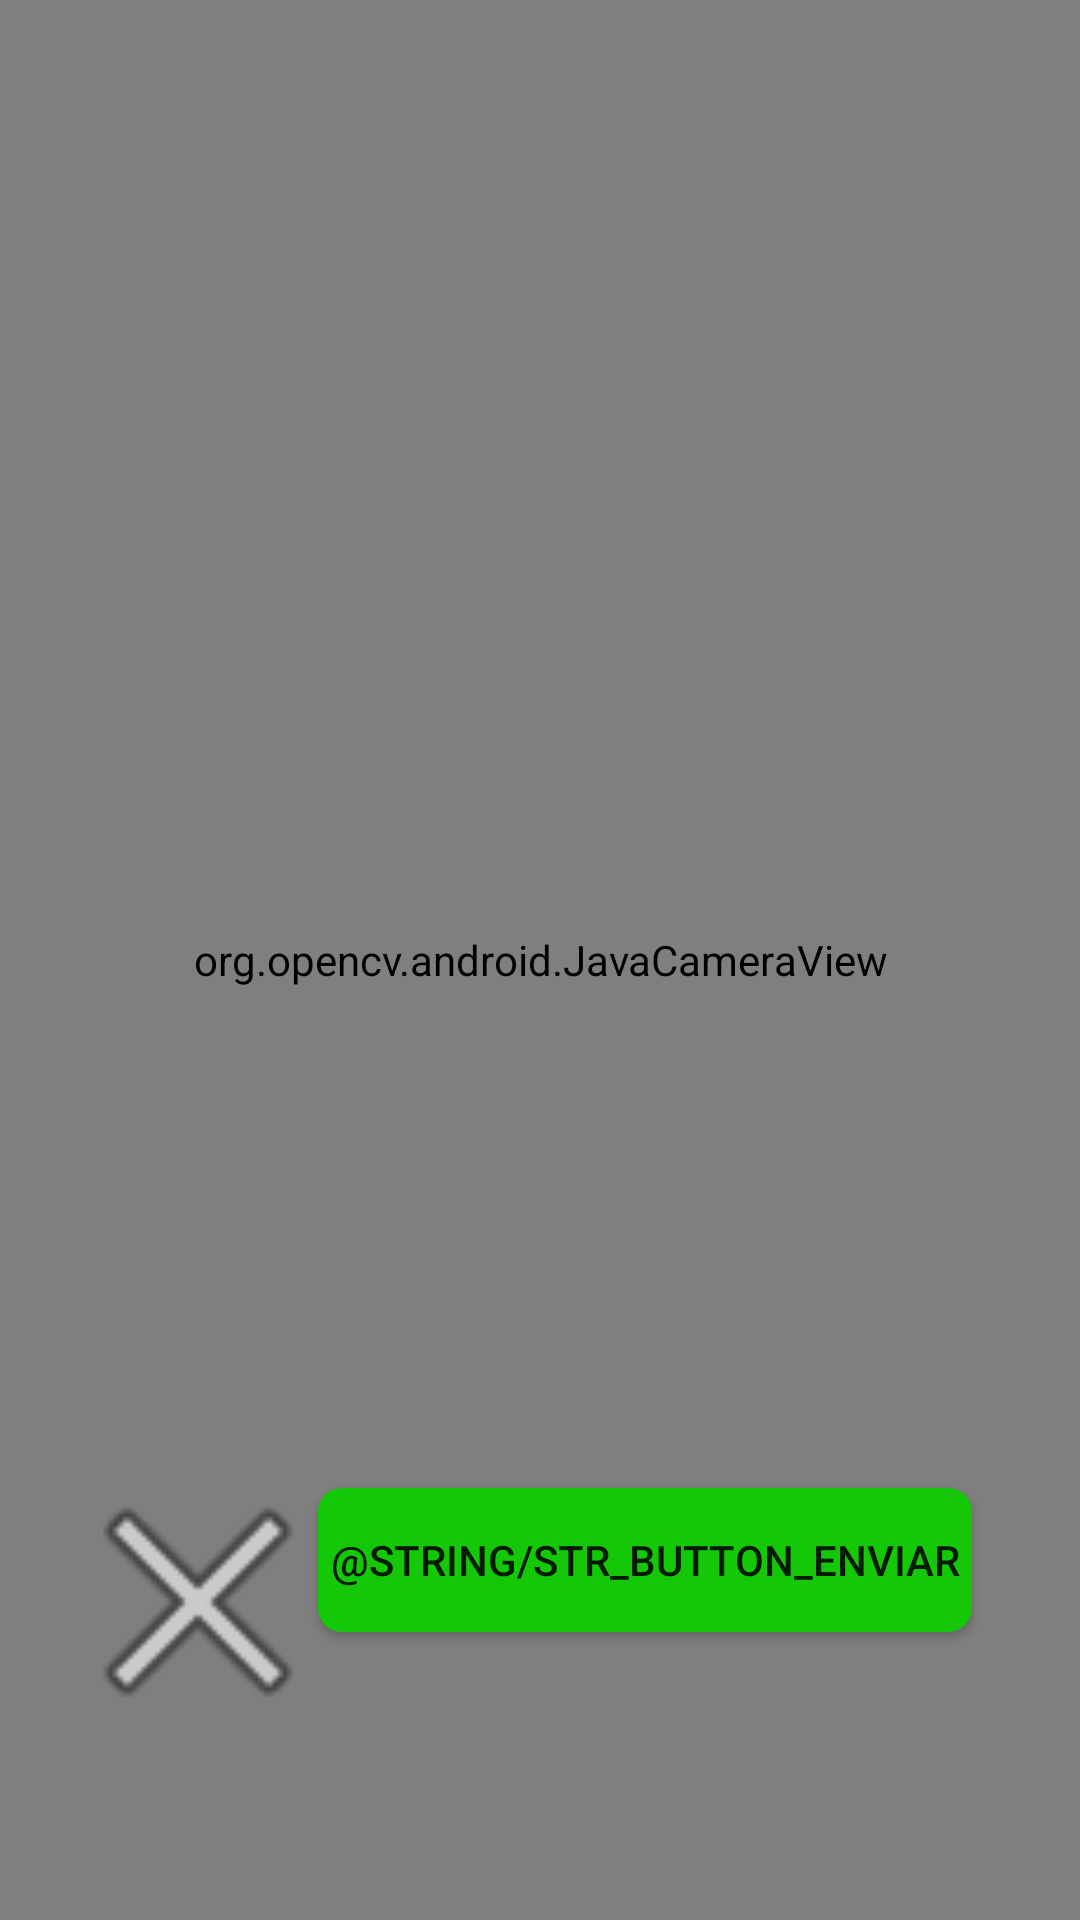

Screen size 1080w x 1920h. Icon name, then its center in pixels as (x=x, y=y):
close clear cancel: (x=198, y=1602)
